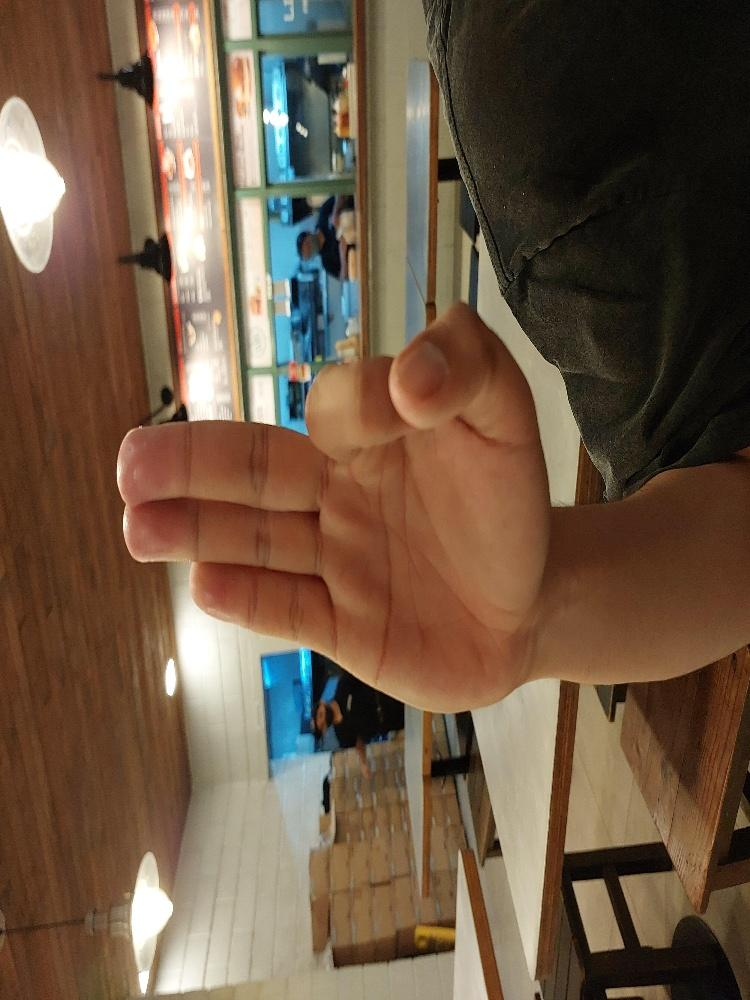f: (210, 150, 526, 737)
